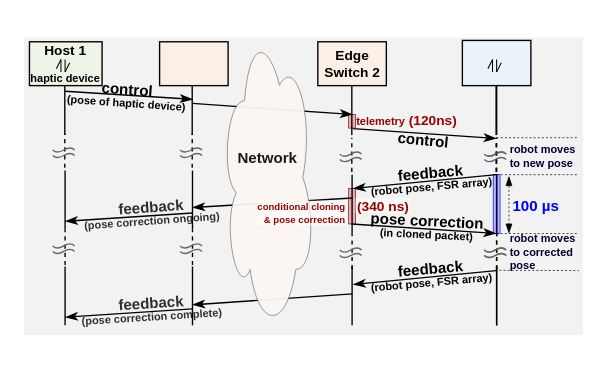
Image size: 606x367. Some labels were removed from this diagram. The centre of each missing label's shape, as x and y in pixels:
"Edge Switch 1" goes at pixel 193 63.
"Host 2 robot" goes at pixel 496 62.
